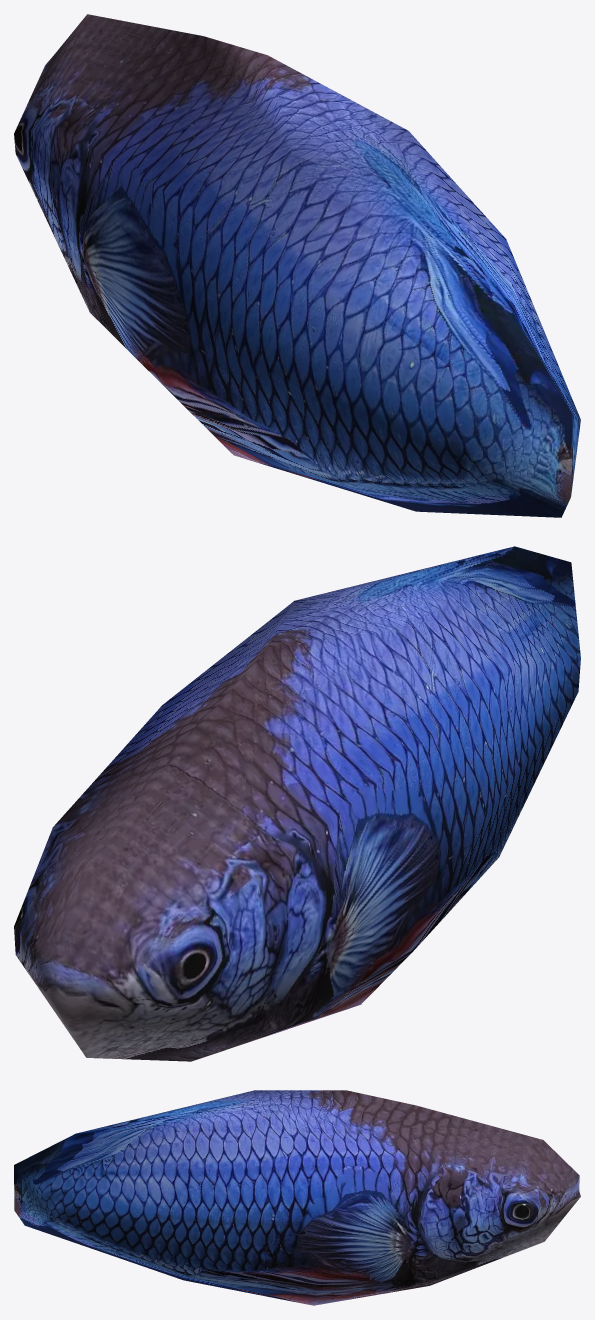
Rendered from fishbody.glb.
3 views of the same model, one above another, from view 1: azimuth 30°, elevation 25°; view 2: azimuth 150°, elevation 25°; view 3: azimuth 270°, elevation 25° (orthographic). The views are drawn at different scales.
Visible parts, largest first — view 1: Icosphere_Baked_Baked_Baked; view 2: Icosphere_Baked_Baked_Baked; view 3: Icosphere_Baked_Baked_Baked.
Part boxes in pixels (left/top/right/bottom): Icosphere_Baked_Baked_Baked: left=14, top=14, right=580, bottom=517; Icosphere_Baked_Baked_Baked: left=14, top=546, right=580, bottom=1061; Icosphere_Baked_Baked_Baked: left=14, top=1090, right=580, bottom=1305.
Bounding box in the file's own units: 0.1959 × 0.2782 × 0.6787.
1 material, 1 textured.
